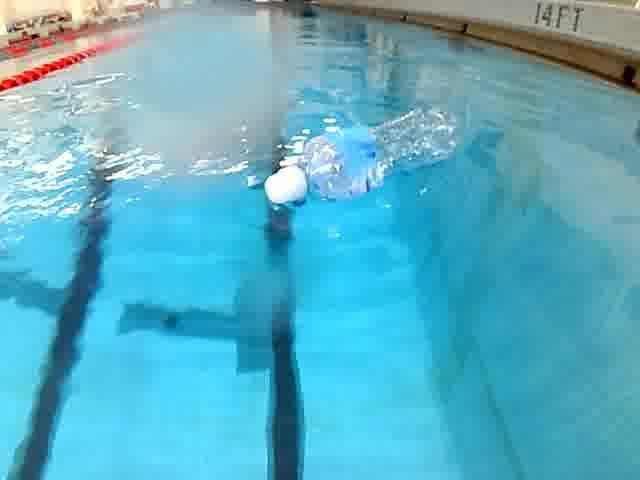Bottle: (260, 100, 466, 210)
